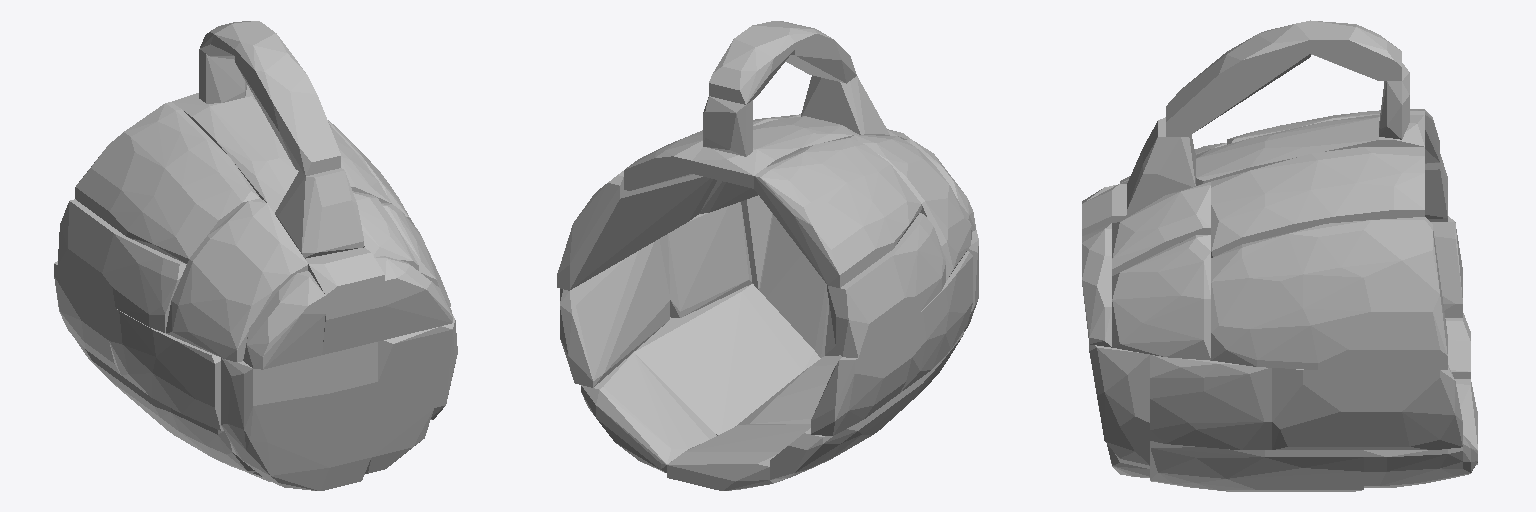
--- Facts derived from the render (not from the file) ---
Views: 3 orthographic renders of the robot side by side, from view 1: azimuth 30°, elevation 25°; view 2: azimuth 150°, elevation 25°; view 3: azimuth 270°, elevation 25°.
Robot: root — 28 links, 27 joints (27 fixed); root link link_5e42608cac0cb5e94962fcaf2d60c3de_convex_piece_0; default pose: all joints at 0.
Visible links, largest first — view 1: link_5e42608cac0cb5e94962fcaf2d60c3de_convex_piece_0, link_5e42608cac0cb5e94962fcaf2d60c3de_convex_piece_12, link_5e42608cac0cb5e94962fcaf2d60c3de_convex_piece_10, link_5e42608cac0cb5e94962fcaf2d60c3de_convex_piece_11, link_5e42608cac0cb5e94962fcaf2d60c3de_convex_piece_25, link_5e42608cac0cb5e94962fcaf2d60c3de_convex_piece_21, link_5e42608cac0cb5e94962fcaf2d60c3de_convex_piece_1, link_5e42608cac0cb5e94962fcaf2d60c3de_convex_piece_24, link_5e42608cac0cb5e94962fcaf2d60c3de_convex_piece_23, link_5e42608cac0cb5e94962fcaf2d60c3de_convex_piece_9, link_5e42608cac0cb5e94962fcaf2d60c3de_convex_piece_3, link_5e42608cac0cb5e94962fcaf2d60c3de_convex_piece_6 (+10 smaller); view 2: link_5e42608cac0cb5e94962fcaf2d60c3de_convex_piece_15, link_5e42608cac0cb5e94962fcaf2d60c3de_convex_piece_12, link_5e42608cac0cb5e94962fcaf2d60c3de_convex_piece_18, link_5e42608cac0cb5e94962fcaf2d60c3de_convex_piece_5, link_5e42608cac0cb5e94962fcaf2d60c3de_convex_piece_11, link_5e42608cac0cb5e94962fcaf2d60c3de_convex_piece_16, link_5e42608cac0cb5e94962fcaf2d60c3de_convex_piece_17, link_5e42608cac0cb5e94962fcaf2d60c3de_convex_piece_22, link_5e42608cac0cb5e94962fcaf2d60c3de_convex_piece_8, link_5e42608cac0cb5e94962fcaf2d60c3de_convex_piece_1, link_5e42608cac0cb5e94962fcaf2d60c3de_convex_piece_10, link_5e42608cac0cb5e94962fcaf2d60c3de_convex_piece_24 (+12 smaller); view 3: link_5e42608cac0cb5e94962fcaf2d60c3de_convex_piece_5, link_5e42608cac0cb5e94962fcaf2d60c3de_convex_piece_4, link_5e42608cac0cb5e94962fcaf2d60c3de_convex_piece_18, link_5e42608cac0cb5e94962fcaf2d60c3de_convex_piece_17, link_5e42608cac0cb5e94962fcaf2d60c3de_convex_piece_20, link_5e42608cac0cb5e94962fcaf2d60c3de_convex_piece_15, link_5e42608cac0cb5e94962fcaf2d60c3de_convex_piece_25, link_5e42608cac0cb5e94962fcaf2d60c3de_convex_piece_24, link_5e42608cac0cb5e94962fcaf2d60c3de_convex_piece_2, link_5e42608cac0cb5e94962fcaf2d60c3de_convex_piece_19, link_5e42608cac0cb5e94962fcaf2d60c3de_convex_piece_23, link_5e42608cac0cb5e94962fcaf2d60c3de_convex_piece_16 (+10 smaller).
Boxes of the visible links, x1,y1,x2,y2 form: link_5e42608cac0cb5e94962fcaf2d60c3de_convex_piece_0: (221, 342, 377, 490); link_5e42608cac0cb5e94962fcaf2d60c3de_convex_piece_12: (75, 102, 259, 263); link_5e42608cac0cb5e94962fcaf2d60c3de_convex_piece_10: (166, 198, 307, 362); link_5e42608cac0cb5e94962fcaf2d60c3de_convex_piece_11: (57, 199, 186, 332); link_5e42608cac0cb5e94962fcaf2d60c3de_convex_piece_25: (235, 33, 340, 175); link_5e42608cac0cb5e94962fcaf2d60c3de_convex_piece_21: (109, 304, 223, 430); link_5e42608cac0cb5e94962fcaf2d60c3de_convex_piece_1: (365, 326, 440, 473); link_5e42608cac0cb5e94962fcaf2d60c3de_convex_piece_24: (172, 93, 298, 213); link_5e42608cac0cb5e94962fcaf2d60c3de_convex_piece_23: (275, 168, 363, 258); link_5e42608cac0cb5e94962fcaf2d60c3de_convex_piece_9: (243, 271, 325, 369); link_5e42608cac0cb5e94962fcaf2d60c3de_convex_piece_3: (375, 256, 452, 340); link_5e42608cac0cb5e94962fcaf2d60c3de_convex_piece_6: (72, 335, 255, 472); link_5e42608cac0cb5e94962fcaf2d60c3de_convex_piece_15: (634, 284, 820, 435); link_5e42608cac0cb5e94962fcaf2d60c3de_convex_piece_12: (754, 138, 921, 287); link_5e42608cac0cb5e94962fcaf2d60c3de_convex_piece_18: (560, 239, 669, 387); link_5e42608cac0cb5e94962fcaf2d60c3de_convex_piece_5: (557, 156, 716, 290); link_5e42608cac0cb5e94962fcaf2d60c3de_convex_piece_11: (827, 213, 945, 357); link_5e42608cac0cb5e94962fcaf2d60c3de_convex_piece_16: (581, 352, 716, 472); link_5e42608cac0cb5e94962fcaf2d60c3de_convex_piece_17: (659, 202, 752, 317); link_5e42608cac0cb5e94962fcaf2d60c3de_convex_piece_22: (811, 319, 911, 435); link_5e42608cac0cb5e94962fcaf2d60c3de_convex_piece_8: (667, 424, 811, 490); link_5e42608cac0cb5e94962fcaf2d60c3de_convex_piece_1: (760, 215, 828, 357); link_5e42608cac0cb5e94962fcaf2d60c3de_convex_piece_10: (851, 135, 971, 280); link_5e42608cac0cb5e94962fcaf2d60c3de_convex_piece_24: (692, 116, 858, 188); link_5e42608cac0cb5e94962fcaf2d60c3de_convex_piece_5: (1211, 217, 1447, 369); link_5e42608cac0cb5e94962fcaf2d60c3de_convex_piece_4: (1211, 147, 1424, 257); link_5e42608cac0cb5e94962fcaf2d60c3de_convex_piece_18: (1272, 365, 1462, 449); link_5e42608cac0cb5e94962fcaf2d60c3de_convex_piece_17: (1150, 355, 1271, 449); link_5e42608cac0cb5e94962fcaf2d60c3de_convex_piece_20: (1112, 235, 1210, 360); link_5e42608cac0cb5e94962fcaf2d60c3de_convex_piece_15: (1150, 441, 1363, 491); link_5e42608cac0cb5e94962fcaf2d60c3de_convex_piece_25: (1166, 20, 1310, 136); link_5e42608cac0cb5e94962fcaf2d60c3de_convex_piece_24: (1196, 115, 1424, 185); link_5e42608cac0cb5e94962fcaf2d60c3de_convex_piece_2: (1089, 344, 1149, 465); link_5e42608cac0cb5e94962fcaf2d60c3de_convex_piece_19: (1112, 182, 1210, 275); link_5e42608cac0cb5e94962fcaf2d60c3de_convex_piece_23: (1127, 117, 1195, 214); link_5e42608cac0cb5e94962fcaf2d60c3de_convex_piece_16: (1364, 435, 1477, 487).
Size in the robot's own frame: 0.0427 by 0.0462 by 0.0569 metres.
28 mesh visuals loaded from 28 distinct referenced files (28 OBJ).

URDF robot description (root):
<robot name="root">
  <link name="link_5e42608cac0cb5e94962fcaf2d60c3de_convex_piece_0">
    <inertial>
      <origin rpy="0 0 0" xyz="0 0 0"/>
      <mass value="2.64E-07"/>
      <inertia ixx="1.25E-10" ixy="3.11E-11" ixz="2.26E-11" iyy="5.54E-11" iyz="6.44E-11" izz="1.07E-10"/>
    </inertial>
    <visual>
      <origin rpy="0 0 0" xyz="0 0 0"/>
      <geometry>
        <mesh filename="5e42608cac0cb5e94962fcaf2d60c3de_convex_piece_0.obj" scale="1.0000E+00"/>
      </geometry>
      <material name="">
        <color rgba="7.50E-01 7.50E-01 7.50E-01 1"/>
      </material>
    </visual>
    <collision>
      <origin rpy="0 0 0" xyz="0 0 0"/>
      <geometry>
        <mesh filename="5e42608cac0cb5e94962fcaf2d60c3de_convex_piece_0.obj" scale="1.0000E+00"/>
      </geometry>
    </collision>
  </link>
  <link name="link_5e42608cac0cb5e94962fcaf2d60c3de_convex_piece_1">
    <inertial>
      <origin rpy="0 0 0" xyz="0 0 0"/>
      <mass value="1.14E-07"/>
      <inertia ixx="5.87E-11" ixy="-1.69E-11" ixz="-1.45E-11" iyy="2.80E-11" iyz="3.04E-11" izz="4.68E-11"/>
    </inertial>
    <visual>
      <origin rpy="0 0 0" xyz="0 0 0"/>
      <geometry>
        <mesh filename="5e42608cac0cb5e94962fcaf2d60c3de_convex_piece_1.obj" scale="1.0000E+00"/>
      </geometry>
      <material name="">
        <color rgba="7.50E-01 7.50E-01 7.50E-01 1"/>
      </material>
    </visual>
    <collision>
      <origin rpy="0 0 0" xyz="0 0 0"/>
      <geometry>
        <mesh filename="5e42608cac0cb5e94962fcaf2d60c3de_convex_piece_1.obj" scale="1.0000E+00"/>
      </geometry>
    </collision>
  </link>
  <joint name="link_5e42608cac0cb5e94962fcaf2d60c3de_convex_piece_1_joint" type="fixed">
    <origin rpy="0 0 0" xyz="0 0 0"/>
    <parent link="link_5e42608cac0cb5e94962fcaf2d60c3de_convex_piece_0"/>
    <child link="link_5e42608cac0cb5e94962fcaf2d60c3de_convex_piece_1"/>
  </joint>
  <link name="link_5e42608cac0cb5e94962fcaf2d60c3de_convex_piece_2">
    <inertial>
      <origin rpy="0 0 0" xyz="0 0 0"/>
      <mass value="5.09E-08"/>
      <inertia ixx="1.86E-11" ixy="-1.31E-11" ixz="-8.72E-12" iyy="1.31E-11" iyz="9.59E-12" izz="2.68E-11"/>
    </inertial>
    <visual>
      <origin rpy="0 0 0" xyz="0 0 0"/>
      <geometry>
        <mesh filename="5e42608cac0cb5e94962fcaf2d60c3de_convex_piece_2.obj" scale="1.0000E+00"/>
      </geometry>
      <material name="">
        <color rgba="7.50E-01 7.50E-01 7.50E-01 1"/>
      </material>
    </visual>
    <collision>
      <origin rpy="0 0 0" xyz="0 0 0"/>
      <geometry>
        <mesh filename="5e42608cac0cb5e94962fcaf2d60c3de_convex_piece_2.obj" scale="1.0000E+00"/>
      </geometry>
    </collision>
  </link>
  <joint name="link_5e42608cac0cb5e94962fcaf2d60c3de_convex_piece_2_joint" type="fixed">
    <origin rpy="0 0 0" xyz="0 0 0"/>
    <parent link="link_5e42608cac0cb5e94962fcaf2d60c3de_convex_piece_1"/>
    <child link="link_5e42608cac0cb5e94962fcaf2d60c3de_convex_piece_2"/>
  </joint>
  <link name="link_5e42608cac0cb5e94962fcaf2d60c3de_convex_piece_3">
    <inertial>
      <origin rpy="0 0 0" xyz="0 0 0"/>
      <mass value="4.27E-08"/>
      <inertia ixx="1.43E-11" ixy="-7.21E-12" ixz="-4.90E-13" iyy="-1.23E-12" iyz="-1.61E-13" izz="2.17E-11"/>
    </inertial>
    <visual>
      <origin rpy="0 0 0" xyz="0 0 0"/>
      <geometry>
        <mesh filename="5e42608cac0cb5e94962fcaf2d60c3de_convex_piece_3.obj" scale="1.0000E+00"/>
      </geometry>
      <material name="">
        <color rgba="7.50E-01 7.50E-01 7.50E-01 1"/>
      </material>
    </visual>
    <collision>
      <origin rpy="0 0 0" xyz="0 0 0"/>
      <geometry>
        <mesh filename="5e42608cac0cb5e94962fcaf2d60c3de_convex_piece_3.obj" scale="1.0000E+00"/>
      </geometry>
    </collision>
  </link>
  <joint name="link_5e42608cac0cb5e94962fcaf2d60c3de_convex_piece_3_joint" type="fixed">
    <origin rpy="0 0 0" xyz="0 0 0"/>
    <parent link="link_5e42608cac0cb5e94962fcaf2d60c3de_convex_piece_2"/>
    <child link="link_5e42608cac0cb5e94962fcaf2d60c3de_convex_piece_3"/>
  </joint>
  <link name="link_5e42608cac0cb5e94962fcaf2d60c3de_convex_piece_4">
    <inertial>
      <origin rpy="0 0 0" xyz="0 0 0"/>
      <mass value="1.90E-07"/>
      <inertia ixx="1.07E-11" ixy="6.86E-12" ixz="1.57E-11" iyy="1.53E-11" iyz="5.56E-12" izz="2.73E-11"/>
    </inertial>
    <visual>
      <origin rpy="0 0 0" xyz="0 0 0"/>
      <geometry>
        <mesh filename="5e42608cac0cb5e94962fcaf2d60c3de_convex_piece_4.obj" scale="1.0000E+00"/>
      </geometry>
      <material name="">
        <color rgba="7.50E-01 7.50E-01 7.50E-01 1"/>
      </material>
    </visual>
    <collision>
      <origin rpy="0 0 0" xyz="0 0 0"/>
      <geometry>
        <mesh filename="5e42608cac0cb5e94962fcaf2d60c3de_convex_piece_4.obj" scale="1.0000E+00"/>
      </geometry>
    </collision>
  </link>
  <joint name="link_5e42608cac0cb5e94962fcaf2d60c3de_convex_piece_4_joint" type="fixed">
    <origin rpy="0 0 0" xyz="0 0 0"/>
    <parent link="link_5e42608cac0cb5e94962fcaf2d60c3de_convex_piece_3"/>
    <child link="link_5e42608cac0cb5e94962fcaf2d60c3de_convex_piece_4"/>
  </joint>
  <link name="link_5e42608cac0cb5e94962fcaf2d60c3de_convex_piece_5">
    <inertial>
      <origin rpy="0 0 0" xyz="0 0 0"/>
      <mass value="2.60E-07"/>
      <inertia ixx="-9.16E-13" ixy="2.91E-11" ixz="5.42E-12" iyy="5.40E-11" iyz="-2.10E-12" izz="1.01E-10"/>
    </inertial>
    <visual>
      <origin rpy="0 0 0" xyz="0 0 0"/>
      <geometry>
        <mesh filename="5e42608cac0cb5e94962fcaf2d60c3de_convex_piece_5.obj" scale="1.0000E+00"/>
      </geometry>
      <material name="">
        <color rgba="7.50E-01 7.50E-01 7.50E-01 1"/>
      </material>
    </visual>
    <collision>
      <origin rpy="0 0 0" xyz="0 0 0"/>
      <geometry>
        <mesh filename="5e42608cac0cb5e94962fcaf2d60c3de_convex_piece_5.obj" scale="1.0000E+00"/>
      </geometry>
    </collision>
  </link>
  <joint name="link_5e42608cac0cb5e94962fcaf2d60c3de_convex_piece_5_joint" type="fixed">
    <origin rpy="0 0 0" xyz="0 0 0"/>
    <parent link="link_5e42608cac0cb5e94962fcaf2d60c3de_convex_piece_4"/>
    <child link="link_5e42608cac0cb5e94962fcaf2d60c3de_convex_piece_5"/>
  </joint>
  <link name="link_5e42608cac0cb5e94962fcaf2d60c3de_convex_piece_6">
    <inertial>
      <origin rpy="0 0 0" xyz="0 0 0"/>
      <mass value="2.57E-07"/>
      <inertia ixx="1.03E-10" ixy="-1.22E-11" ixz="7.14E-11" iyy="1.28E-10" iyz="-2.26E-11" izz="8.01E-11"/>
    </inertial>
    <visual>
      <origin rpy="0 0 0" xyz="0 0 0"/>
      <geometry>
        <mesh filename="5e42608cac0cb5e94962fcaf2d60c3de_convex_piece_6.obj" scale="1.0000E+00"/>
      </geometry>
      <material name="">
        <color rgba="7.50E-01 7.50E-01 7.50E-01 1"/>
      </material>
    </visual>
    <collision>
      <origin rpy="0 0 0" xyz="0 0 0"/>
      <geometry>
        <mesh filename="5e42608cac0cb5e94962fcaf2d60c3de_convex_piece_6.obj" scale="1.0000E+00"/>
      </geometry>
    </collision>
  </link>
  <joint name="link_5e42608cac0cb5e94962fcaf2d60c3de_convex_piece_6_joint" type="fixed">
    <origin rpy="0 0 0" xyz="0 0 0"/>
    <parent link="link_5e42608cac0cb5e94962fcaf2d60c3de_convex_piece_5"/>
    <child link="link_5e42608cac0cb5e94962fcaf2d60c3de_convex_piece_6"/>
  </joint>
  <link name="link_5e42608cac0cb5e94962fcaf2d60c3de_convex_piece_7">
    <inertial>
      <origin rpy="0 0 0" xyz="0 0 0"/>
      <mass value="1.78E-07"/>
      <inertia ixx="1.10E-10" ixy="4.65E-12" ixz="1.70E-11" iyy="1.03E-10" iyz="2.66E-11" izz="1.76E-11"/>
    </inertial>
    <visual>
      <origin rpy="0 0 0" xyz="0 0 0"/>
      <geometry>
        <mesh filename="5e42608cac0cb5e94962fcaf2d60c3de_convex_piece_7.obj" scale="1.0000E+00"/>
      </geometry>
      <material name="">
        <color rgba="7.50E-01 7.50E-01 7.50E-01 1"/>
      </material>
    </visual>
    <collision>
      <origin rpy="0 0 0" xyz="0 0 0"/>
      <geometry>
        <mesh filename="5e42608cac0cb5e94962fcaf2d60c3de_convex_piece_7.obj" scale="1.0000E+00"/>
      </geometry>
    </collision>
  </link>
  <joint name="link_5e42608cac0cb5e94962fcaf2d60c3de_convex_piece_7_joint" type="fixed">
    <origin rpy="0 0 0" xyz="0 0 0"/>
    <parent link="link_5e42608cac0cb5e94962fcaf2d60c3de_convex_piece_6"/>
    <child link="link_5e42608cac0cb5e94962fcaf2d60c3de_convex_piece_7"/>
  </joint>
  <link name="link_5e42608cac0cb5e94962fcaf2d60c3de_convex_piece_8">
    <inertial>
      <origin rpy="0 0 0" xyz="0 0 0"/>
      <mass value="1.90E-07"/>
      <inertia ixx="1.38E-10" ixy="-9.16E-12" ixz="1.74E-11" iyy="1.07E-10" iyz="-6.56E-11" izz="4.22E-11"/>
    </inertial>
    <visual>
      <origin rpy="0 0 0" xyz="0 0 0"/>
      <geometry>
        <mesh filename="5e42608cac0cb5e94962fcaf2d60c3de_convex_piece_8.obj" scale="1.0000E+00"/>
      </geometry>
      <material name="">
        <color rgba="7.50E-01 7.50E-01 7.50E-01 1"/>
      </material>
    </visual>
    <collision>
      <origin rpy="0 0 0" xyz="0 0 0"/>
      <geometry>
        <mesh filename="5e42608cac0cb5e94962fcaf2d60c3de_convex_piece_8.obj" scale="1.0000E+00"/>
      </geometry>
    </collision>
  </link>
  <joint name="link_5e42608cac0cb5e94962fcaf2d60c3de_convex_piece_8_joint" type="fixed">
    <origin rpy="0 0 0" xyz="0 0 0"/>
    <parent link="link_5e42608cac0cb5e94962fcaf2d60c3de_convex_piece_7"/>
    <child link="link_5e42608cac0cb5e94962fcaf2d60c3de_convex_piece_8"/>
  </joint>
  <link name="link_5e42608cac0cb5e94962fcaf2d60c3de_convex_piece_9">
    <inertial>
      <origin rpy="0 0 0" xyz="0 0 0"/>
      <mass value="4.52E-08"/>
      <inertia ixx="1.43E-11" ixy="8.56E-12" ixz="4.86E-13" iyy="-4.07E-13" iyz="-1.36E-13" izz="2.30E-11"/>
    </inertial>
    <visual>
      <origin rpy="0 0 0" xyz="0 0 0"/>
      <geometry>
        <mesh filename="5e42608cac0cb5e94962fcaf2d60c3de_convex_piece_9.obj" scale="1.0000E+00"/>
      </geometry>
      <material name="">
        <color rgba="7.50E-01 7.50E-01 7.50E-01 1"/>
      </material>
    </visual>
    <collision>
      <origin rpy="0 0 0" xyz="0 0 0"/>
      <geometry>
        <mesh filename="5e42608cac0cb5e94962fcaf2d60c3de_convex_piece_9.obj" scale="1.0000E+00"/>
      </geometry>
    </collision>
  </link>
  <joint name="link_5e42608cac0cb5e94962fcaf2d60c3de_convex_piece_9_joint" type="fixed">
    <origin rpy="0 0 0" xyz="0 0 0"/>
    <parent link="link_5e42608cac0cb5e94962fcaf2d60c3de_convex_piece_8"/>
    <child link="link_5e42608cac0cb5e94962fcaf2d60c3de_convex_piece_9"/>
  </joint>
  <link name="link_5e42608cac0cb5e94962fcaf2d60c3de_convex_piece_10">
    <inertial>
      <origin rpy="0 0 0" xyz="0 0 0"/>
      <mass value="1.70E-07"/>
      <inertia ixx="9.16E-12" ixy="2.34E-11" ixz="-2.44E-12" iyy="1.05E-11" iyz="-7.24E-12" izz="5.07E-11"/>
    </inertial>
    <visual>
      <origin rpy="0 0 0" xyz="0 0 0"/>
      <geometry>
        <mesh filename="5e42608cac0cb5e94962fcaf2d60c3de_convex_piece_10.obj" scale="1.0000E+00"/>
      </geometry>
      <material name="">
        <color rgba="7.50E-01 7.50E-01 7.50E-01 1"/>
      </material>
    </visual>
    <collision>
      <origin rpy="0 0 0" xyz="0 0 0"/>
      <geometry>
        <mesh filename="5e42608cac0cb5e94962fcaf2d60c3de_convex_piece_10.obj" scale="1.0000E+00"/>
      </geometry>
    </collision>
  </link>
  <joint name="link_5e42608cac0cb5e94962fcaf2d60c3de_convex_piece_10_joint" type="fixed">
    <origin rpy="0 0 0" xyz="0 0 0"/>
    <parent link="link_5e42608cac0cb5e94962fcaf2d60c3de_convex_piece_9"/>
    <child link="link_5e42608cac0cb5e94962fcaf2d60c3de_convex_piece_10"/>
  </joint>
  <link name="link_5e42608cac0cb5e94962fcaf2d60c3de_convex_piece_11">
    <inertial>
      <origin rpy="0 0 0" xyz="0 0 0"/>
      <mass value="1.49E-07"/>
      <inertia ixx="-2.68E-12" ixy="-1.80E-11" ixz="2.12E-12" iyy="3.54E-11" iyz="-4.16E-12" izz="6.33E-11"/>
    </inertial>
    <visual>
      <origin rpy="0 0 0" xyz="0 0 0"/>
      <geometry>
        <mesh filename="5e42608cac0cb5e94962fcaf2d60c3de_convex_piece_11.obj" scale="1.0000E+00"/>
      </geometry>
      <material name="">
        <color rgba="7.50E-01 7.50E-01 7.50E-01 1"/>
      </material>
    </visual>
    <collision>
      <origin rpy="0 0 0" xyz="0 0 0"/>
      <geometry>
        <mesh filename="5e42608cac0cb5e94962fcaf2d60c3de_convex_piece_11.obj" scale="1.0000E+00"/>
      </geometry>
    </collision>
  </link>
  <joint name="link_5e42608cac0cb5e94962fcaf2d60c3de_convex_piece_11_joint" type="fixed">
    <origin rpy="0 0 0" xyz="0 0 0"/>
    <parent link="link_5e42608cac0cb5e94962fcaf2d60c3de_convex_piece_10"/>
    <child link="link_5e42608cac0cb5e94962fcaf2d60c3de_convex_piece_11"/>
  </joint>
  <link name="link_5e42608cac0cb5e94962fcaf2d60c3de_convex_piece_12">
    <inertial>
      <origin rpy="0 0 0" xyz="0 0 0"/>
      <mass value="2.48E-07"/>
      <inertia ixx="1.33E-11" ixy="-2.01E-11" ixz="-2.32E-11" iyy="2.93E-11" iyz="9.22E-12" izz="5.68E-11"/>
    </inertial>
    <visual>
      <origin rpy="0 0 0" xyz="0 0 0"/>
      <geometry>
        <mesh filename="5e42608cac0cb5e94962fcaf2d60c3de_convex_piece_12.obj" scale="1.0000E+00"/>
      </geometry>
      <material name="">
        <color rgba="7.50E-01 7.50E-01 7.50E-01 1"/>
      </material>
    </visual>
    <collision>
      <origin rpy="0 0 0" xyz="0 0 0"/>
      <geometry>
        <mesh filename="5e42608cac0cb5e94962fcaf2d60c3de_convex_piece_12.obj" scale="1.0000E+00"/>
      </geometry>
    </collision>
  </link>
  <joint name="link_5e42608cac0cb5e94962fcaf2d60c3de_convex_piece_12_joint" type="fixed">
    <origin rpy="0 0 0" xyz="0 0 0"/>
    <parent link="link_5e42608cac0cb5e94962fcaf2d60c3de_convex_piece_11"/>
    <child link="link_5e42608cac0cb5e94962fcaf2d60c3de_convex_piece_12"/>
  </joint>
  <link name="link_5e42608cac0cb5e94962fcaf2d60c3de_convex_piece_13">
    <inertial>
      <origin rpy="0 0 0" xyz="0 0 0"/>
      <mass value="2.42E-08"/>
      <inertia ixx="8.61E-12" ixy="4.39E-13" ixz="8.84E-15" iyy="-2.31E-12" iyz="3.00E-13" izz="1.13E-11"/>
    </inertial>
    <visual>
      <origin rpy="0 0 0" xyz="0 0 0"/>
      <geometry>
        <mesh filename="5e42608cac0cb5e94962fcaf2d60c3de_convex_piece_13.obj" scale="1.0000E+00"/>
      </geometry>
      <material name="">
        <color rgba="7.50E-01 7.50E-01 7.50E-01 1"/>
      </material>
    </visual>
    <collision>
      <origin rpy="0 0 0" xyz="0 0 0"/>
      <geometry>
        <mesh filename="5e42608cac0cb5e94962fcaf2d60c3de_convex_piece_13.obj" scale="1.0000E+00"/>
      </geometry>
    </collision>
  </link>
  <joint name="link_5e42608cac0cb5e94962fcaf2d60c3de_convex_piece_13_joint" type="fixed">
    <origin rpy="0 0 0" xyz="0 0 0"/>
    <parent link="link_5e42608cac0cb5e94962fcaf2d60c3de_convex_piece_12"/>
    <child link="link_5e42608cac0cb5e94962fcaf2d60c3de_convex_piece_13"/>
  </joint>
  <link name="link_5e42608cac0cb5e94962fcaf2d60c3de_convex_piece_14">
    <inertial>
      <origin rpy="0 0 0" xyz="0 0 0"/>
      <mass value="3.66E-08"/>
      <inertia ixx="1.02E-11" ixy="6.25E-13" ixz="-1.80E-13" iyy="-3.01E-12" iyz="-3.77E-12" izz="1.38E-11"/>
    </inertial>
    <visual>
      <origin rpy="0 0 0" xyz="0 0 0"/>
      <geometry>
        <mesh filename="5e42608cac0cb5e94962fcaf2d60c3de_convex_piece_14.obj" scale="1.0000E+00"/>
      </geometry>
      <material name="">
        <color rgba="7.50E-01 7.50E-01 7.50E-01 1"/>
      </material>
    </visual>
    <collision>
      <origin rpy="0 0 0" xyz="0 0 0"/>
      <geometry>
        <mesh filename="5e42608cac0cb5e94962fcaf2d60c3de_convex_piece_14.obj" scale="1.0000E+00"/>
      </geometry>
    </collision>
  </link>
  <joint name="link_5e42608cac0cb5e94962fcaf2d60c3de_convex_piece_14_joint" type="fixed">
    <origin rpy="0 0 0" xyz="0 0 0"/>
    <parent link="link_5e42608cac0cb5e94962fcaf2d60c3de_convex_piece_13"/>
    <child link="link_5e42608cac0cb5e94962fcaf2d60c3de_convex_piece_14"/>
  </joint>
  <link name="link_5e42608cac0cb5e94962fcaf2d60c3de_convex_piece_15">
    <inertial>
      <origin rpy="0 0 0" xyz="0 0 0"/>
      <mass value="2.86E-07"/>
      <inertia ixx="1.28E-10" ixy="-6.36E-12" ixz="-6.73E-11" iyy="1.52E-10" iyz="7.82E-12" izz="5.13E-11"/>
    </inertial>
    <visual>
      <origin rpy="0 0 0" xyz="0 0 0"/>
      <geometry>
        <mesh filename="5e42608cac0cb5e94962fcaf2d60c3de_convex_piece_15.obj" scale="1.0000E+00"/>
      </geometry>
      <material name="">
        <color rgba="7.50E-01 7.50E-01 7.50E-01 1"/>
      </material>
    </visual>
    <collision>
      <origin rpy="0 0 0" xyz="0 0 0"/>
      <geometry>
        <mesh filename="5e42608cac0cb5e94962fcaf2d60c3de_convex_piece_15.obj" scale="1.0000E+00"/>
      </geometry>
    </collision>
  </link>
  <joint name="link_5e42608cac0cb5e94962fcaf2d60c3de_convex_piece_15_joint" type="fixed">
    <origin rpy="0 0 0" xyz="0 0 0"/>
    <parent link="link_5e42608cac0cb5e94962fcaf2d60c3de_convex_piece_14"/>
    <child link="link_5e42608cac0cb5e94962fcaf2d60c3de_convex_piece_15"/>
  </joint>
  <link name="link_5e42608cac0cb5e94962fcaf2d60c3de_convex_piece_16">
    <inertial>
      <origin rpy="0 0 0" xyz="0 0 0"/>
      <mass value="1.33E-07"/>
      <inertia ixx="8.63E-11" ixy="2.26E-11" ixz="-3.05E-11" iyy="6.83E-11" iyz="-5.00E-11" izz="5.22E-11"/>
    </inertial>
    <visual>
      <origin rpy="0 0 0" xyz="0 0 0"/>
      <geometry>
        <mesh filename="5e42608cac0cb5e94962fcaf2d60c3de_convex_piece_16.obj" scale="1.0000E+00"/>
      </geometry>
      <material name="">
        <color rgba="7.50E-01 7.50E-01 7.50E-01 1"/>
      </material>
    </visual>
    <collision>
      <origin rpy="0 0 0" xyz="0 0 0"/>
      <geometry>
        <mesh filename="5e42608cac0cb5e94962fcaf2d60c3de_convex_piece_16.obj" scale="1.0000E+00"/>
      </geometry>
    </collision>
  </link>
  <joint name="link_5e42608cac0cb5e94962fcaf2d60c3de_convex_piece_16_joint" type="fixed">
    <origin rpy="0 0 0" xyz="0 0 0"/>
    <parent link="link_5e42608cac0cb5e94962fcaf2d60c3de_convex_piece_15"/>
    <child link="link_5e42608cac0cb5e94962fcaf2d60c3de_convex_piece_16"/>
  </joint>
  <link name="link_5e42608cac0cb5e94962fcaf2d60c3de_convex_piece_17">
    <inertial>
      <origin rpy="0 0 0" xyz="0 0 0"/>
      <mass value="1.04E-07"/>
      <inertia ixx="1.05E-11" ixy="-1.39E-11" ixz="-2.01E-11" iyy="3.39E-11" iyz="6.88E-12" izz="3.89E-11"/>
    </inertial>
    <visual>
      <origin rpy="0 0 0" xyz="0 0 0"/>
      <geometry>
        <mesh filename="5e42608cac0cb5e94962fcaf2d60c3de_convex_piece_17.obj" scale="1.0000E+00"/>
      </geometry>
      <material name="">
        <color rgba="7.50E-01 7.50E-01 7.50E-01 1"/>
      </material>
    </visual>
    <collision>
      <origin rpy="0 0 0" xyz="0 0 0"/>
      <geometry>
        <mesh filename="5e42608cac0cb5e94962fcaf2d60c3de_convex_piece_17.obj" scale="1.0000E+00"/>
      </geometry>
    </collision>
  </link>
  <joint name="link_5e42608cac0cb5e94962fcaf2d60c3de_convex_piece_17_joint" type="fixed">
    <origin rpy="0 0 0" xyz="0 0 0"/>
    <parent link="link_5e42608cac0cb5e94962fcaf2d60c3de_convex_piece_16"/>
    <child link="link_5e42608cac0cb5e94962fcaf2d60c3de_convex_piece_17"/>
  </joint>
  <link name="link_5e42608cac0cb5e94962fcaf2d60c3de_convex_piece_18">
    <inertial>
      <origin rpy="0 0 0" xyz="0 0 0"/>
      <mass value="1.51E-07"/>
      <inertia ixx="2.58E-11" ixy="2.93E-11" ixz="-3.24E-11" iyy="5.87E-11" iyz="-2.16E-11" izz="7.49E-11"/>
    </inertial>
    <visual>
      <origin rpy="0 0 0" xyz="0 0 0"/>
      <geometry>
        <mesh filename="5e42608cac0cb5e94962fcaf2d60c3de_convex_piece_18.obj" scale="1.0000E+00"/>
      </geometry>
      <material name="">
        <color rgba="7.50E-01 7.50E-01 7.50E-01 1"/>
      </material>
    </visual>
    <collision>
      <origin rpy="0 0 0" xyz="0 0 0"/>
      <geometry>
        <mesh filename="5e42608cac0cb5e94962fcaf2d60c3de_convex_piece_18.obj" scale="1.0000E+00"/>
      </geometry>
    </collision>
  </link>
  <joint name="link_5e42608cac0cb5e94962fcaf2d60c3de_convex_piece_18_joint" type="fixed">
    <origin rpy="0 0 0" xyz="0 0 0"/>
    <parent link="link_5e42608cac0cb5e94962fcaf2d60c3de_convex_piece_17"/>
    <child link="link_5e42608cac0cb5e94962fcaf2d60c3de_convex_piece_18"/>
  </joint>
  <link name="link_5e42608cac0cb5e94962fcaf2d60c3de_convex_piece_19">
    <inertial>
      <origin rpy="0 0 0" xyz="0 0 0"/>
      <mass value="6.00E-08"/>
      <inertia ixx="7.06E-12" ixy="-6.06E-12" ixz="2.16E-12" iyy="-1.11E-12" iyz="-5.46E-12" izz="1.51E-11"/>
    </inertial>
    <visual>
      <origin rpy="0 0 0" xyz="0 0 0"/>
      <geometry>
        <mesh filename="5e42608cac0cb5e94962fcaf2d60c3de_convex_piece_19.obj" scale="1.0000E+00"/>
      </geometry>
      <material name="">
        <color rgba="7.50E-01 7.50E-01 7.50E-01 1"/>
      </material>
    </visual>
    <collision>
      <origin rpy="0 0 0" xyz="0 0 0"/>
      <geometry>
        <mesh filename="5e42608cac0cb5e94962fcaf2d60c3de_convex_piece_19.obj" scale="1.0000E+00"/>
      </geometry>
    </collision>
  </link>
  <joint name="link_5e42608cac0cb5e94962fcaf2d60c3de_convex_piece_19_joint" type="fixed">
    <origin rpy="0 0 0" xyz="0 0 0"/>
    <parent link="link_5e42608cac0cb5e94962fcaf2d60c3de_convex_piece_18"/>
    <child link="link_5e42608cac0cb5e94962fcaf2d60c3de_convex_piece_19"/>
  </joint>
  <link name="link_5e42608cac0cb5e94962fcaf2d60c3de_convex_piece_20">
    <inertial>
      <origin rpy="0 0 0" xyz="0 0 0"/>
      <mass value="7.77E-08"/>
      <inertia ixx="5.55E-12" ixy="-1.39E-11" ixz="-6.85E-13" iyy="7.63E-12" iyz="-1.22E-12" izz="2.88E-11"/>
    </inertial>
    <visual>
      <origin rpy="0 0 0" xyz="0 0 0"/>
      <geometry>
        <mesh filename="5e42608cac0cb5e94962fcaf2d60c3de_convex_piece_20.obj" scale="1.0000E+00"/>
      </geometry>
      <material name="">
        <color rgba="7.50E-01 7.50E-01 7.50E-01 1"/>
      </material>
    </visual>
    <collision>
      <origin rpy="0 0 0" xyz="0 0 0"/>
      <geometry>
        <mesh filename="5e42608cac0cb5e94962fcaf2d60c3de_convex_piece_20.obj" scale="1.0000E+00"/>
      </geometry>
    </collision>
  </link>
  <joint name="link_5e42608cac0cb5e94962fcaf2d60c3de_convex_piece_20_joint" type="fixed">
    <origin rpy="0 0 0" xyz="0 0 0"/>
    <parent link="link_5e42608cac0cb5e94962fcaf2d60c3de_convex_piece_19"/>
    <child link="link_5e42608cac0cb5e94962fcaf2d60c3de_convex_piece_20"/>
  </joint>
  <link name="link_5e42608cac0cb5e94962fcaf2d60c3de_convex_piece_21">
    <inertial>
      <origin rpy="0 0 0" xyz="0 0 0"/>
      <mass value="1.43E-07"/>
      <inertia ixx="1.05E-11" ixy="1.29E-11" ixz="2.73E-11" iyy="4.84E-11" iyz="4.94E-12" izz="5.46E-11"/>
    </inertial>
    <visual>
      <origin rpy="0 0 0" xyz="0 0 0"/>
      <geometry>
        <mesh filename="5e42608cac0cb5e94962fcaf2d60c3de_convex_piece_21.obj" scale="1.0000E+00"/>
      </geometry>
      <material name="">
        <color rgba="7.50E-01 7.50E-01 7.50E-01 1"/>
      </material>
    </visual>
    <collision>
      <origin rpy="0 0 0" xyz="0 0 0"/>
      <geometry>
        <mesh filename="5e42608cac0cb5e94962fcaf2d60c3de_convex_piece_21.obj" scale="1.0000E+00"/>
      </geometry>
    </collision>
  </link>
  <joint name="link_5e42608cac0cb5e94962fcaf2d60c3de_convex_piece_21_joint" type="fixed">
    <origin rpy="0 0 0" xyz="0 0 0"/>
    <parent link="link_5e42608cac0cb5e94962fcaf2d60c3de_convex_piece_20"/>
    <child link="link_5e42608cac0cb5e94962fcaf2d60c3de_convex_piece_21"/>
  </joint>
  <link name="link_5e42608cac0cb5e94962fcaf2d60c3de_convex_piece_22">
    <inertial>
      <origin rpy="0 0 0" xyz="0 0 0"/>
      <mass value="8.92E-08"/>
      <inertia ixx="1.95E-11" ixy="-2.29E-11" ixz="1.87E-11" iyy="3.48E-11" iyz="-1.54E-11" izz="5.02E-11"/>
    </inertial>
    <visual>
      <origin rpy="0 0 0" xyz="0 0 0"/>
      <geometry>
        <mesh filename="5e42608cac0cb5e94962fcaf2d60c3de_convex_piece_22.obj" scale="1.0000E+00"/>
      </geometry>
      <material name="">
        <color rgba="7.50E-01 7.50E-01 7.50E-01 1"/>
      </material>
    </visual>
    <collision>
      <origin rpy="0 0 0" xyz="0 0 0"/>
      <geometry>
        <mesh filename="5e42608cac0cb5e94962fcaf2d60c3de_convex_piece_22.obj" scale="1.0000E+00"/>
      </geometry>
    </collision>
  </link>
  <joint name="link_5e42608cac0cb5e94962fcaf2d60c3de_convex_piece_22_joint" type="fixed">
    <origin rpy="0 0 0" xyz="0 0 0"/>
    <parent link="link_5e42608cac0cb5e94962fcaf2d60c3de_convex_piece_21"/>
    <child link="link_5e42608cac0cb5e94962fcaf2d60c3de_convex_piece_22"/>
  </joint>
  <link name="link_5e42608cac0cb5e94962fcaf2d60c3de_convex_piece_23">
    <inertial>
      <origin rpy="0 0 0" xyz="0 0 0"/>
      <mass value="7.93E-08"/>
      <inertia ixx="1.38E-11" ixy="5.13E-13" ixz="-4.55E-13" iyy="6.03E-13" iyz="-1.24E-11" izz="1.41E-11"/>
    </inertial>
    <visual>
      <origin rpy="0 0 0" xyz="0 0 0"/>
      <geometry>
        <mesh filename="5e42608cac0cb5e94962fcaf2d60c3de_convex_piece_23.obj" scale="1.0000E+00"/>
      </geometry>
      <material name="">
        <color rgba="7.50E-01 7.50E-01 7.50E-01 1"/>
      </material>
    </visual>
    <collision>
      <origin rpy="0 0 0" xyz="0 0 0"/>
      <geometry>
        <mesh filename="5e42608cac0cb5e94962fcaf2d60c3de_convex_piece_23.obj" scale="1.0000E+00"/>
      </geometry>
    </collision>
  </link>
  <joint name="link_5e42608cac0cb5e94962fcaf2d60c3de_convex_piece_23_joint" type="fixed">
    <origin rpy="0 0 0" xyz="0 0 0"/>
    <parent link="link_5e42608cac0cb5e94962fcaf2d60c3de_convex_piece_22"/>
    <child link="link_5e42608cac0cb5e94962fcaf2d60c3de_convex_piece_23"/>
  </joint>
  <link name="link_5e42608cac0cb5e94962fcaf2d60c3de_convex_piece_24">
    <inertial>
      <origin rpy="0 0 0" xyz="0 0 0"/>
      <mass value="1.45E-07"/>
      <inertia ixx="1.51E-11" ixy="-4.15E-13" ixz="-1.54E-12" iyy="7.26E-12" iyz="4.61E-12" izz="9.84E-12"/>
    </inertial>
    <visual>
      <origin rpy="0 0 0" xyz="0 0 0"/>
      <geometry>
        <mesh filename="5e42608cac0cb5e94962fcaf2d60c3de_convex_piece_24.obj" scale="1.0000E+00"/>
      </geometry>
      <material name="">
        <color rgba="7.50E-01 7.50E-01 7.50E-01 1"/>
      </material>
    </visual>
    <collision>
      <origin rpy="0 0 0" xyz="0 0 0"/>
      <geometry>
        <mesh filename="5e42608cac0cb5e94962fcaf2d60c3de_convex_piece_24.obj" scale="1.0000E+00"/>
      </geometry>
    </collision>
  </link>
  <joint name="link_5e42608cac0cb5e94962fcaf2d60c3de_convex_piece_24_joint" type="fixed">
    <origin rpy="0 0 0" xyz="0 0 0"/>
    <parent link="link_5e42608cac0cb5e94962fcaf2d60c3de_convex_piece_23"/>
    <child link="link_5e42608cac0cb5e94962fcaf2d60c3de_convex_piece_24"/>
  </joint>
  <link name="link_5e42608cac0cb5e94962fcaf2d60c3de_convex_piece_25">
    <inertial>
      <origin rpy="0 0 0" xyz="0 0 0"/>
      <mass value="7.76E-08"/>
      <inertia ixx="3.44E-11" ixy="4.61E-14" ixz="-6.08E-13" iyy="3.19E-11" iyz="-8.82E-12" izz="2.94E-12"/>
    </inertial>
    <visual>
      <origin rpy="0 0 0" xyz="0 0 0"/>
      <geometry>
        <mesh filename="5e42608cac0cb5e94962fcaf2d60c3de_convex_piece_25.obj" scale="1.0000E+00"/>
      </geometry>
      <material name="">
        <color rgba="7.50E-01 7.50E-01 7.50E-01 1"/>
      </material>
    </visual>
    <collision>
      <origin rpy="0 0 0" xyz="0 0 0"/>
      <geometry>
        <mesh filename="5e42608cac0cb5e94962fcaf2d60c3de_convex_piece_25.obj" scale="1.0000E+00"/>
      </geometry>
    </collision>
  </link>
  <joint name="link_5e42608cac0cb5e94962fcaf2d60c3de_convex_piece_25_joint" type="fixed">
    <origin rpy="0 0 0" xyz="0 0 0"/>
    <parent link="link_5e42608cac0cb5e94962fcaf2d60c3de_convex_piece_24"/>
    <child link="link_5e42608cac0cb5e94962fcaf2d60c3de_convex_piece_25"/>
  </joint>
  <link name="link_5e42608cac0cb5e94962fcaf2d60c3de_convex_piece_26">
    <inertial>
      <origin rpy="0 0 0" xyz="0 0 0"/>
      <mass value="2.07E-08"/>
      <inertia ixx="9.36E-12" ixy="1.10E-13" ixz="1.36E-13" iyy="5.65E-12" iyz="5.00E-12" izz="3.83E-12"/>
    </inertial>
    <visual>
      <origin rpy="0 0 0" xyz="0 0 0"/>
      <geometry>
        <mesh filename="5e42608cac0cb5e94962fcaf2d60c3de_convex_piece_26.obj" scale="1.0000E+00"/>
      </geometry>
      <material name="">
        <color rgba="7.50E-01 7.50E-01 7.50E-01 1"/>
      </material>
    </visual>
    <collision>
      <origin rpy="0 0 0" xyz="0 0 0"/>
      <geometry>
        <mesh filename="5e42608cac0cb5e94962fcaf2d60c3de_convex_piece_26.obj" scale="1.0000E+00"/>
      </geometry>
    </collision>
  </link>
  <joint name="link_5e42608cac0cb5e94962fcaf2d60c3de_convex_piece_26_joint" type="fixed">
    <origin rpy="0 0 0" xyz="0 0 0"/>
    <parent link="link_5e42608cac0cb5e94962fcaf2d60c3de_convex_piece_25"/>
    <child link="link_5e42608cac0cb5e94962fcaf2d60c3de_convex_piece_26"/>
  </joint>
  <link name="link_5e42608cac0cb5e94962fcaf2d60c3de_convex_piece_27">
    <inertial>
      <origin rpy="0 0 0" xyz="0 0 0"/>
      <mass value="3.70E-08"/>
      <inertia ixx="2.40E-11" ixy="-6.35E-14" ixz="-2.42E-13" iyy="2.10E-11" iyz="7.66E-12" izz="3.18E-12"/>
    </inertial>
    <visual>
      <origin rpy="0 0 0" xyz="0 0 0"/>
      <geometry>
        <mesh filename="5e42608cac0cb5e94962fcaf2d60c3de_convex_piece_27.obj" scale="1.0000E+00"/>
      </geometry>
      <material name="">
        <color rgba="7.50E-01 7.50E-01 7.50E-01 1"/>
      </material>
    </visual>
    <collision>
      <origin rpy="0 0 0" xyz="0 0 0"/>
      <geometry>
        <mesh filename="5e42608cac0cb5e94962fcaf2d60c3de_convex_piece_27.obj" scale="1.0000E+00"/>
      </geometry>
    </collision>
  </link>
  <joint name="link_5e42608cac0cb5e94962fcaf2d60c3de_convex_piece_27_joint" type="fixed">
    <origin rpy="0 0 0" xyz="0 0 0"/>
    <parent link="link_5e42608cac0cb5e94962fcaf2d60c3de_convex_piece_26"/>
    <child link="link_5e42608cac0cb5e94962fcaf2d60c3de_convex_piece_27"/>
  </joint>
</robot>
